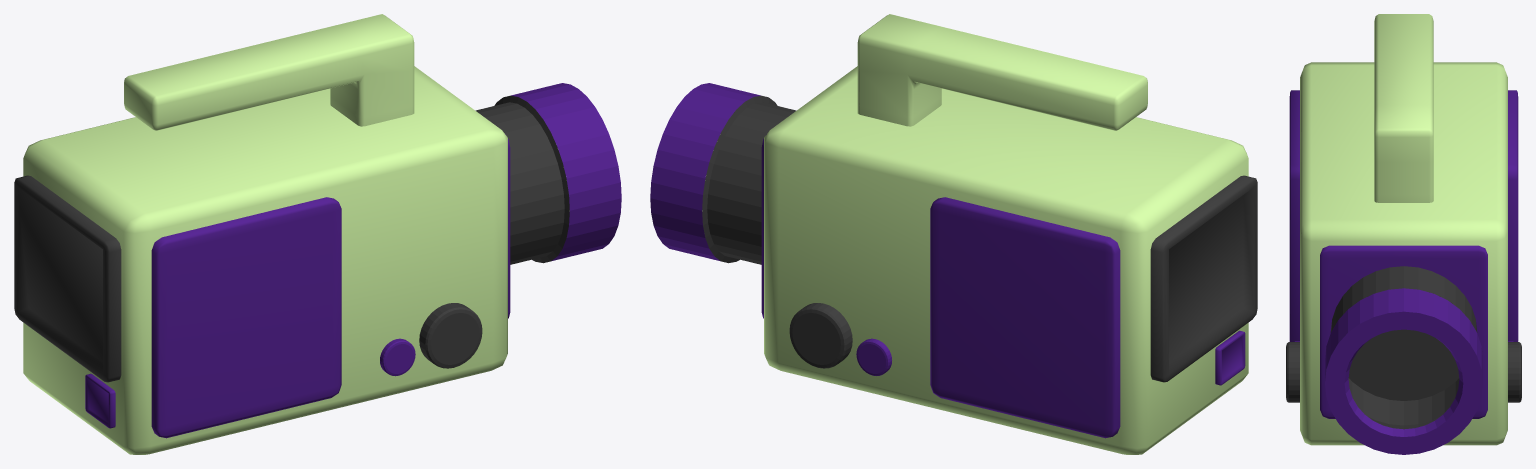
Rendered from camera.glb.
3 views of the same model, side by side, from view 1: azimuth 30°, elevation 25°; view 2: azimuth 150°, elevation 25°; view 3: azimuth 270°, elevation 25° (orthographic). The views are drawn at different scales.
Parts seen in each view (by area): view 1: Cylinder; view 2: Cylinder; view 3: Cylinder.
Boxes of the visible parts, x1=… form: Cylinder: x1=14, y1=14, x2=621, y2=454; Cylinder: x1=650, y1=14, x2=1257, y2=454; Cylinder: x1=1286, y1=14, x2=1521, y2=454.
Bounding box in the file's own units: 5.3 × 3.13 × 2.26.
